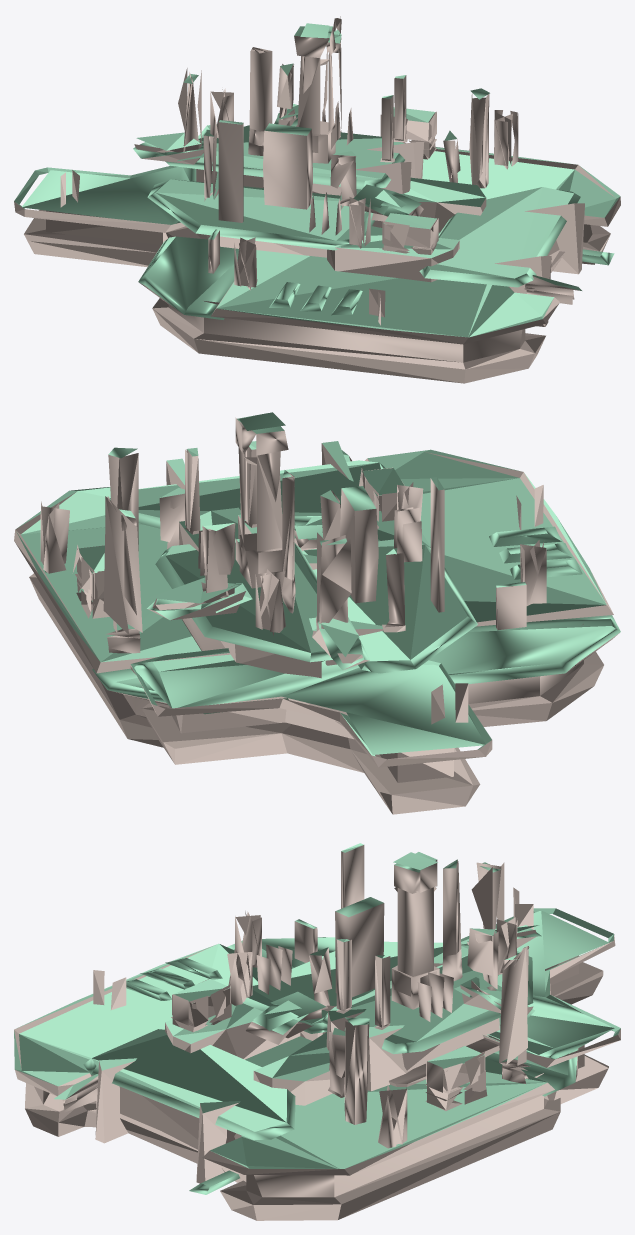
The model's file is newbab_city_cluster_lrg_013_a_megalod.glb.
The picture shows the model from 3 angles, top to bottom: view 1: azimuth 30°, elevation 25°; view 2: azimuth 150°, elevation 25°; view 3: azimuth 270°, elevation 25°; orthographic projection. The views are drawn at different scales.
Bounding box in the file's own units: 2954 × 1329 × 2989.
